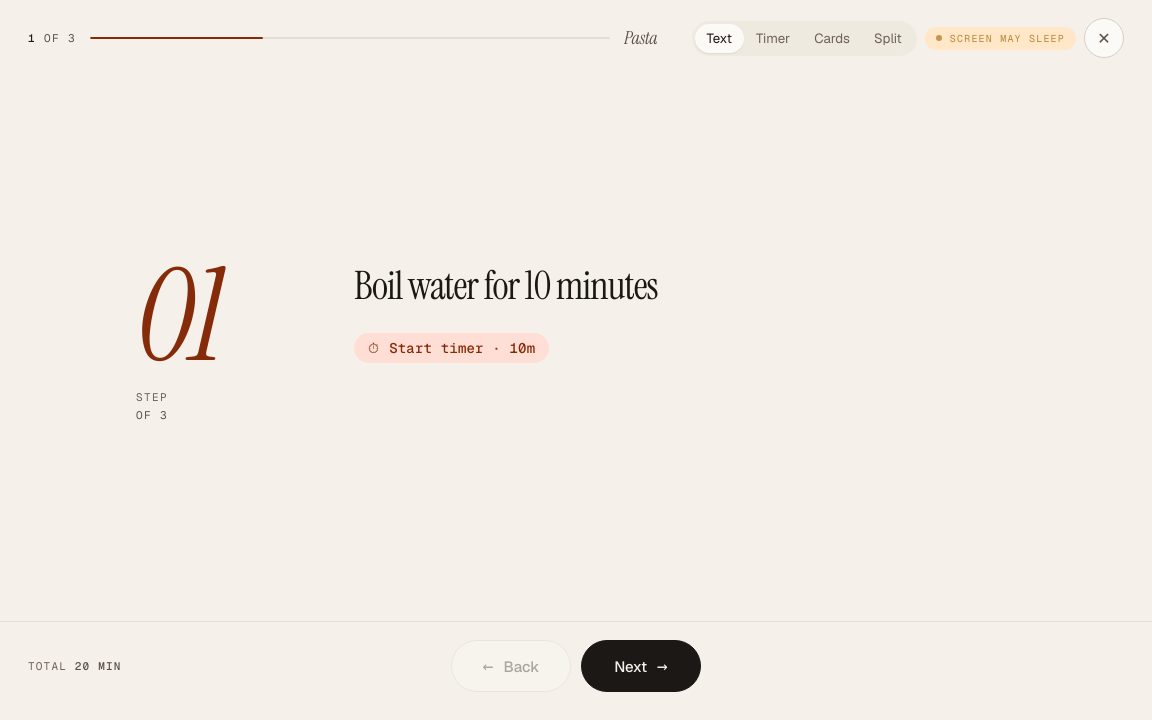
Test: CookingMode – layout switcher › switches to the split layout showing the ingredient list
Click the button "Split" at {"x": 888, "y": 38}, box [862,24,914,52]
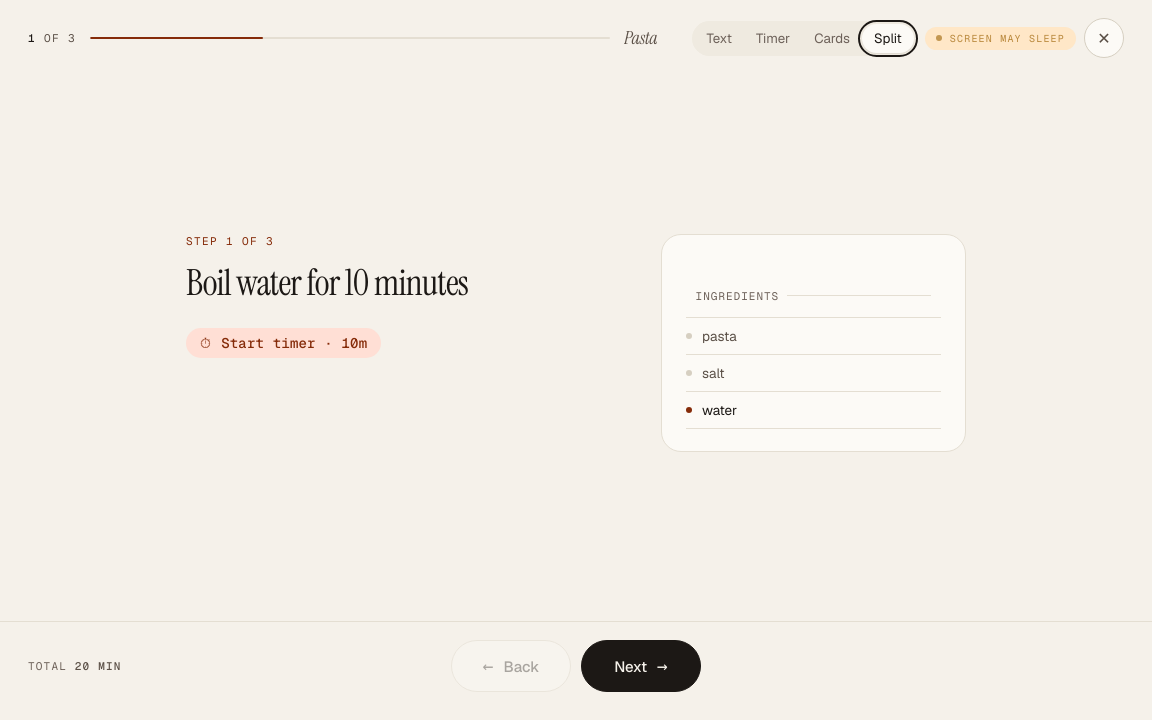
Expected: the text "Ingredients" is shown, [696,288,779,302]
Expected: the list item "pasta" is shown, [686,316,941,354]
